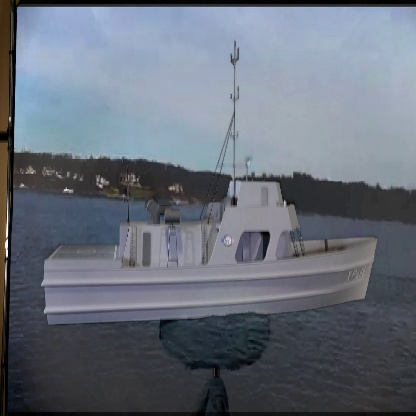YP689: (40, 36, 378, 329)
